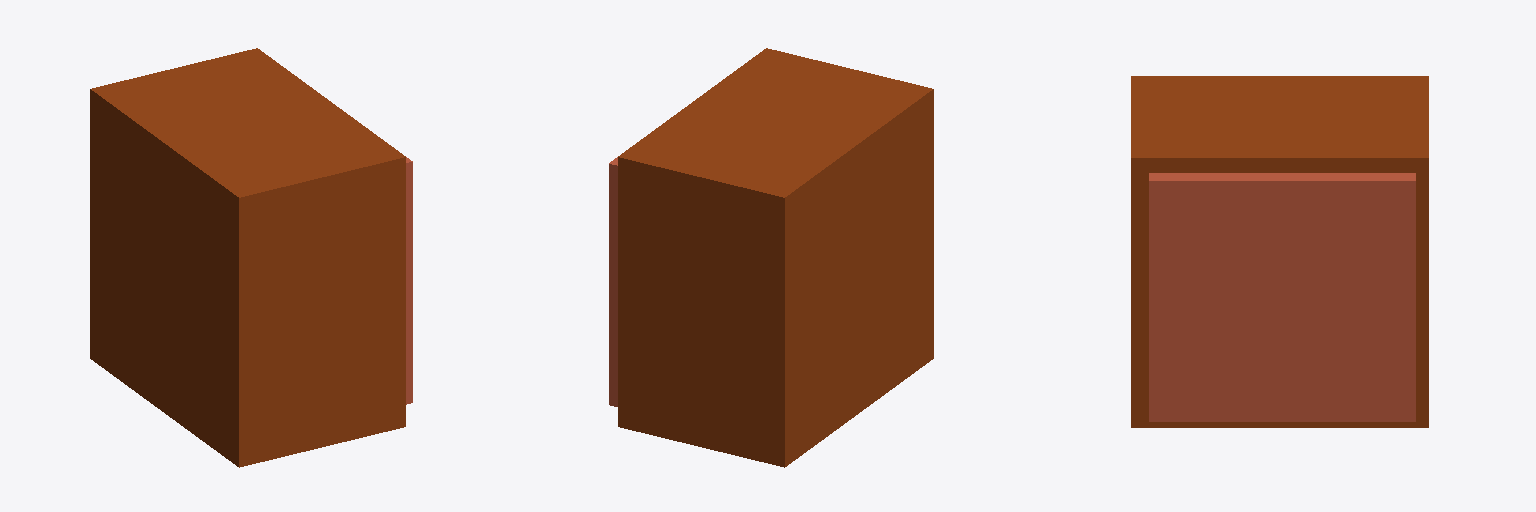
Rendered from kitchencupboardusa.obj.
The picture shows the model from 3 angles: view 1: azimuth 30°, elevation 25°; view 2: azimuth 150°, elevation 25°; view 3: azimuth 270°, elevation 25°; orthographic projection.
Parts seen in each view (by area): view 1: Cube, Cube.001; view 2: Cube, Cube.001; view 3: Cube.001, Cube.
Part boxes in pixels (x1,y1,x2,y2): Cube: (90, 48, 405, 467); Cube.001: (406, 157, 412, 404); Cube: (618, 48, 933, 467); Cube.001: (609, 157, 617, 406); Cube.001: (1149, 173, 1415, 421); Cube: (1131, 76, 1428, 427).
Bounding box in the file's own units: 2.13 × 3 × 3.